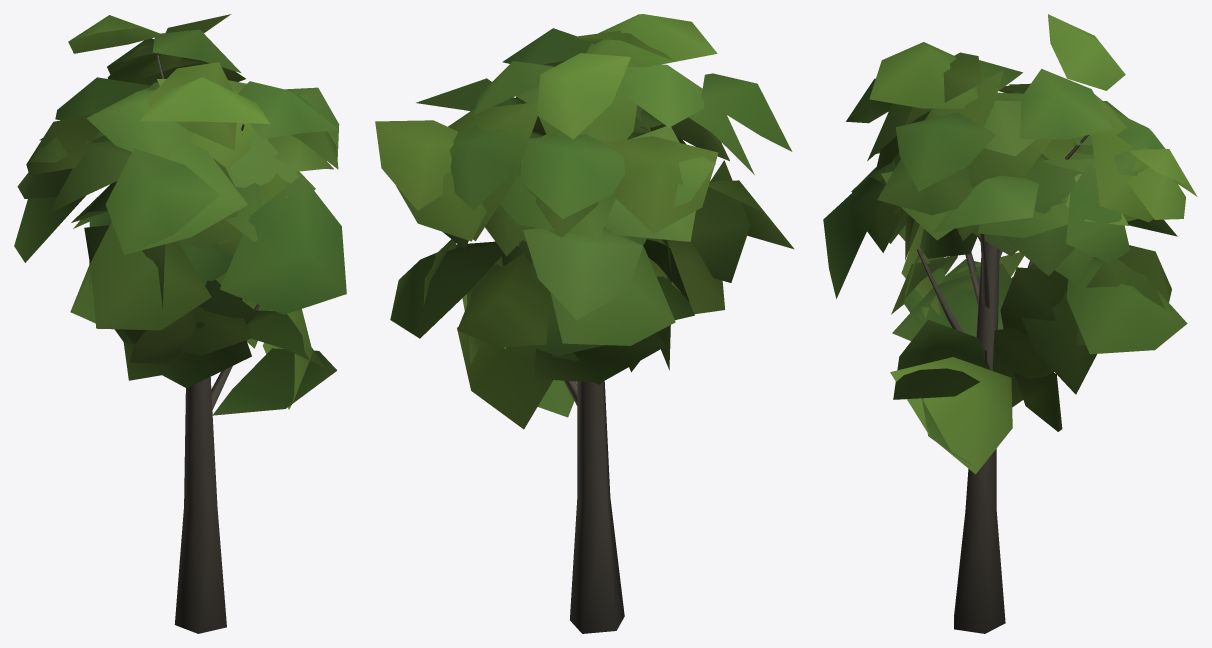
File: lime-b.lod2.glb
3 views of the same model, side by side, from view 1: azimuth 30°, elevation 25°; view 2: azimuth 150°, elevation 25°; view 3: azimuth 270°, elevation 25° (orthographic). The views are drawn at different scales.
Bounding box in the file's own units: 5.24 × 9.98 × 5.88.
